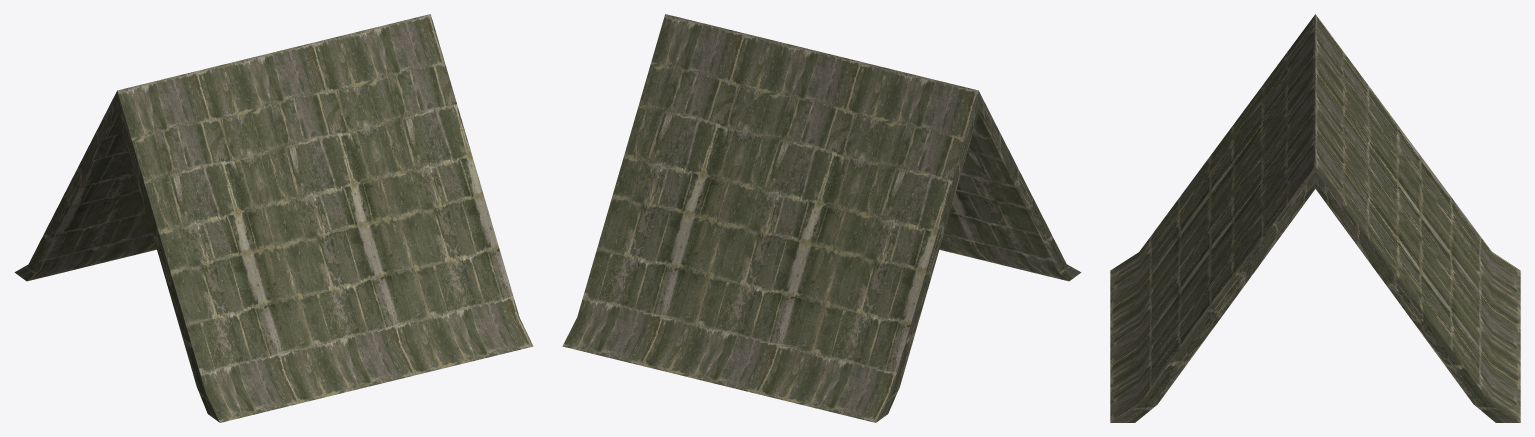
File: Roof_SingleFull.fbx
3 views of the same model, side by side, from view 1: azimuth 30°, elevation 25°; view 2: azimuth 150°, elevation 25°; view 3: azimuth 270°, elevation 25° (orthographic).
Parts seen in each view (by area): view 1: Roof_SingleFull; view 2: Roof_SingleFull; view 3: Roof_SingleFull.
Boxes of the visible parts, x1,y1,x2,y2 form: Roof_SingleFull: (14, 14, 533, 422); Roof_SingleFull: (562, 14, 1081, 422); Roof_SingleFull: (1110, 14, 1520, 422).
Bounding box in the file's own units: 750 × 587 × 850.
